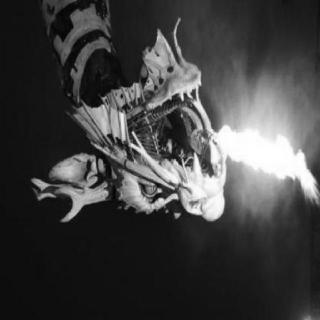Fire: (208, 124, 310, 196)
